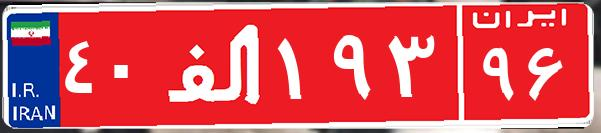0: (110, 28, 158, 105)
1: (273, 28, 330, 110)
3: (385, 28, 445, 110)
4: (57, 26, 110, 107)
6: (525, 38, 570, 115)
9: (330, 28, 385, 110), (475, 38, 525, 113)
الف: (158, 15, 273, 115)
